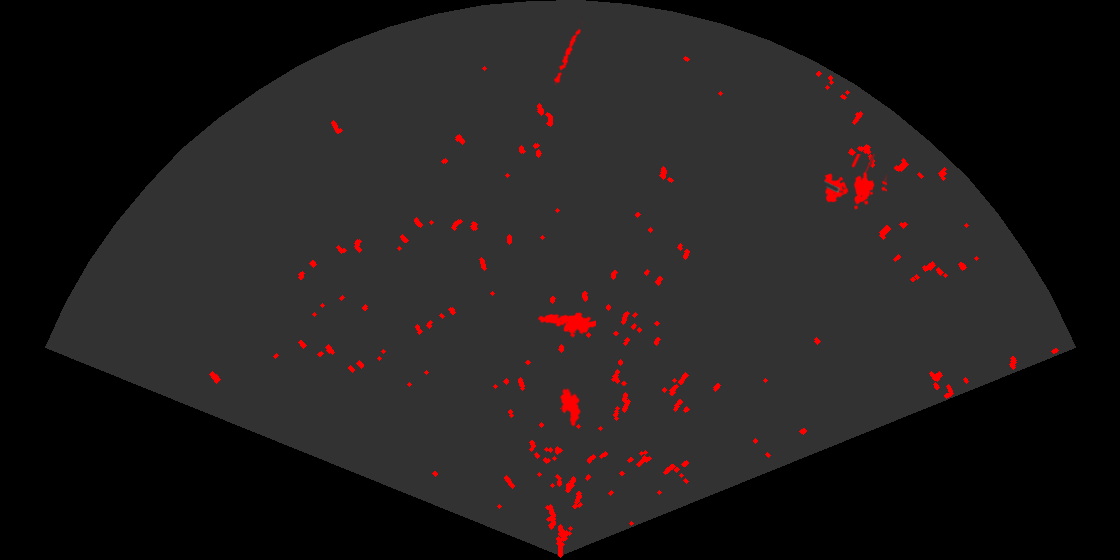AUV: (558, 387, 582, 428)
cage: (823, 154, 887, 211)
chain: (552, 22, 584, 85)
frogman: (536, 311, 596, 339)
